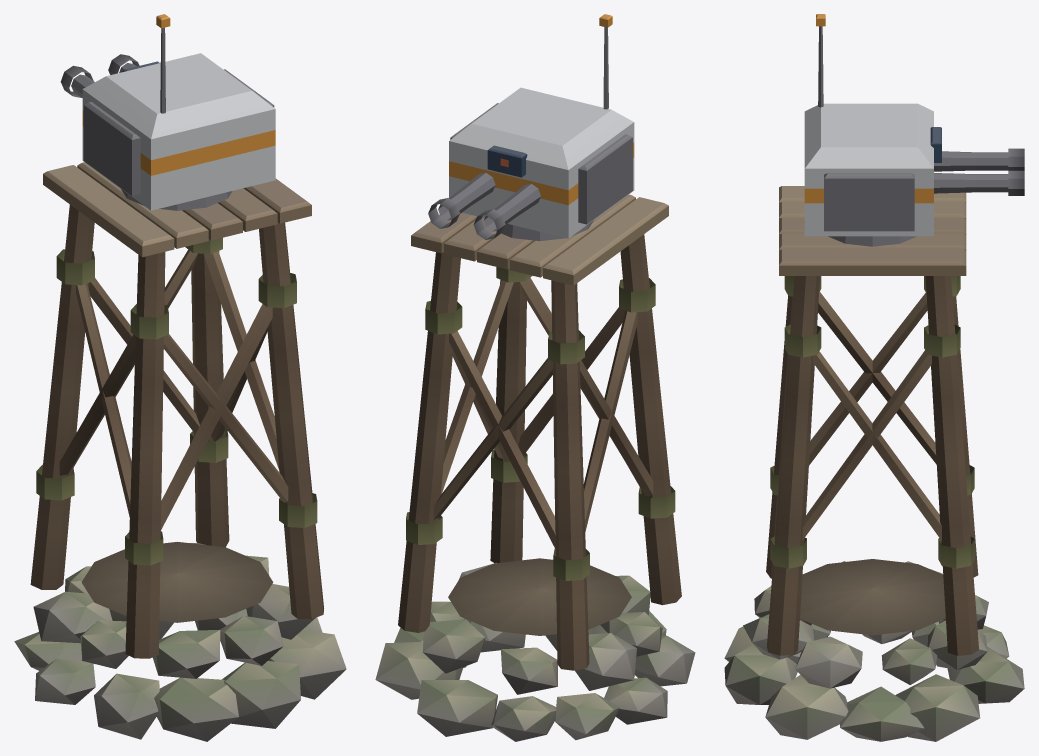
File: sentry_a.glb
3 renders of one model, left to right at view 1: azimuth 30°, elevation 25°; view 2: azimuth 150°, elevation 25°; view 3: azimuth 270°, elevation 25°, orthographic. The views are drawn at different scales.
Parts seen in each view (by area): view 1: Stand, Head; view 2: Stand, Head; view 3: Stand, Head.
Part boxes in pixels (left/top/right/bottom): Stand: left=14, top=162, right=346, bottom=741; Head: left=60, top=14, right=275, bottom=210; Stand: left=375, top=194, right=695, bottom=741; Head: left=428, top=14, right=634, bottom=239; Stand: left=724, top=186, right=1024, bottom=741; Head: left=804, top=14, right=1024, bottom=236.
Size of the model in its own units: 0.9387 by 2.26 by 0.9287.
